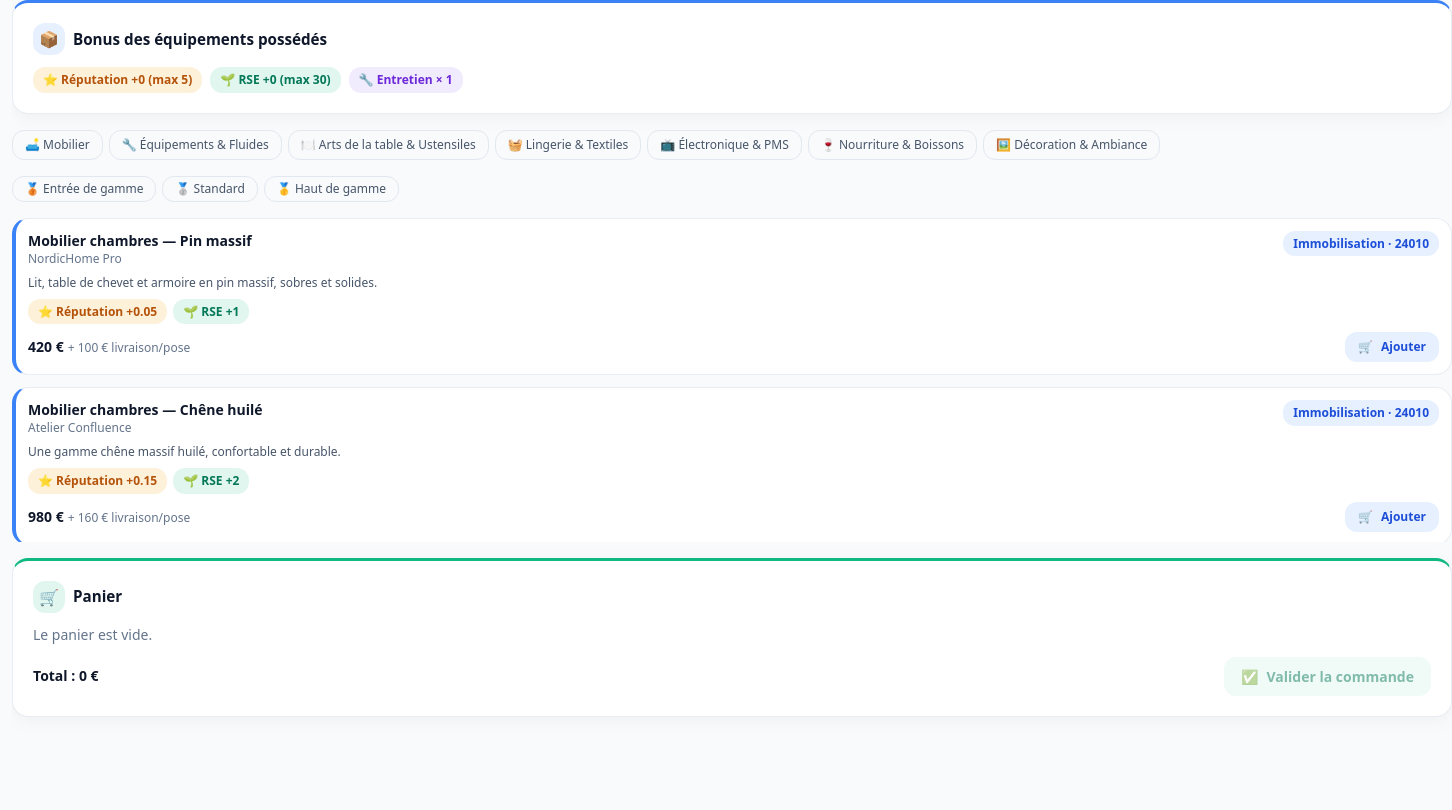
Test case: SuppliersPanel / the cart › adding an item shows its line and the total
The width and height of the screenshot is (1452, 810).
Click the button with test id "supplier-add-furniture-rooms-entry".
click(1392, 347)  # box [1345,332,1439,362]
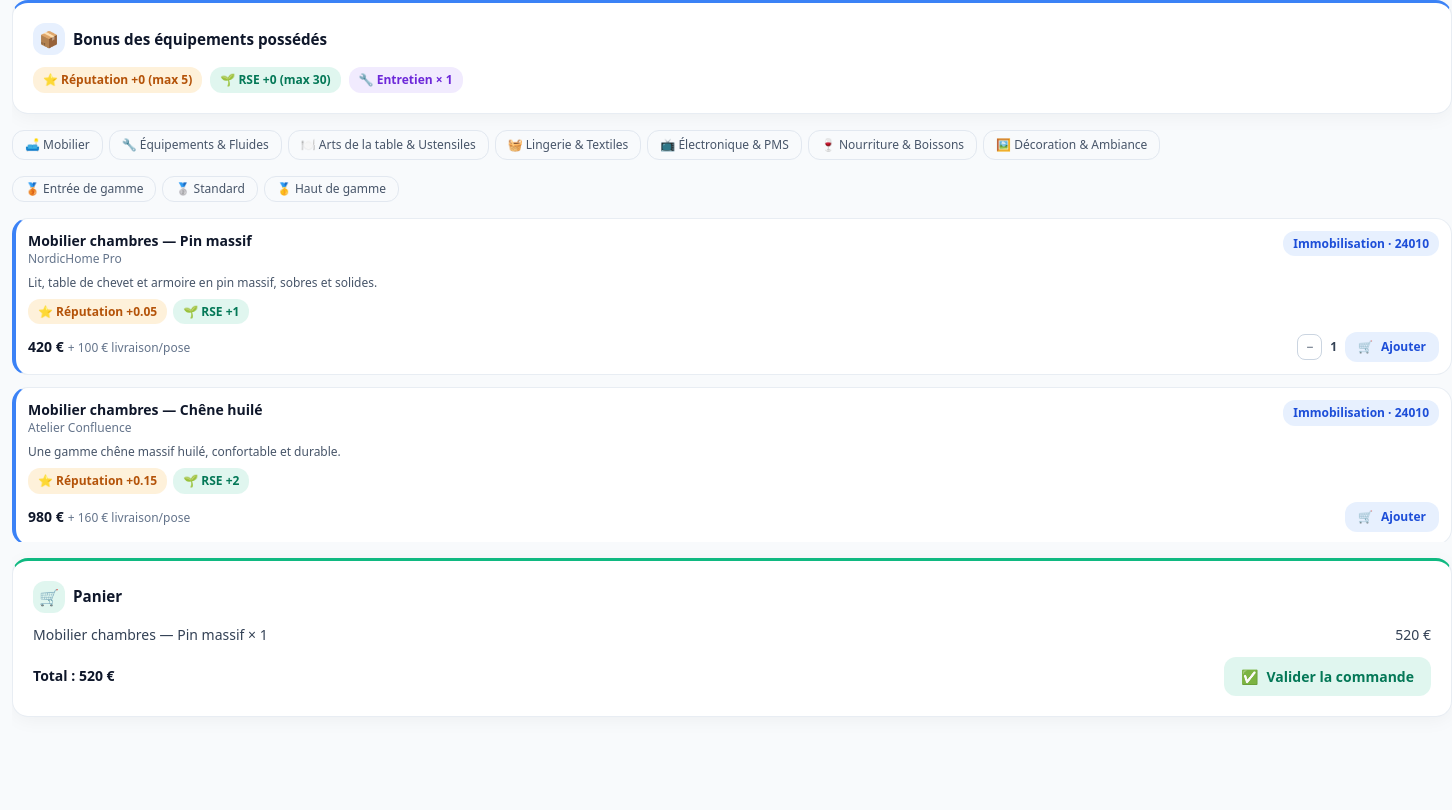
expect the list item with test id "suppliers-cart-line-furniture-rooms-entry" shows "× 1": met, box [33,625,1431,645]
expect the text with test id "suppliers-cart-total" shows "520": met, box [79,666,115,685]
expect the button with test id "suppliers-checkout" is enabled: met, box [1224,657,1431,696]
